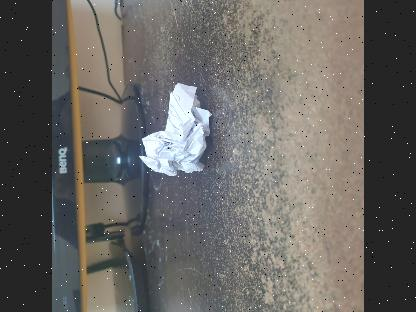Others: (139, 76, 213, 178)
